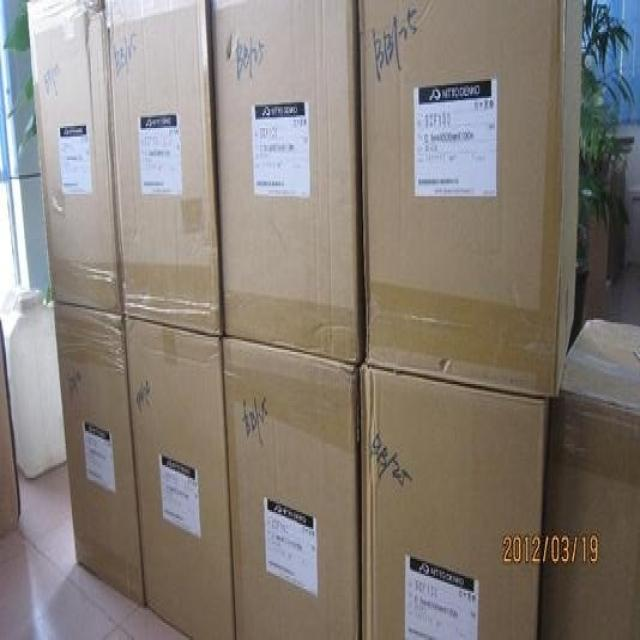box: (358, 3, 583, 396), (211, 3, 365, 366), (361, 368, 548, 638), (221, 336, 360, 637), (104, 3, 225, 335), (126, 316, 235, 638), (538, 317, 639, 638), (26, 3, 125, 315), (51, 302, 143, 606)
